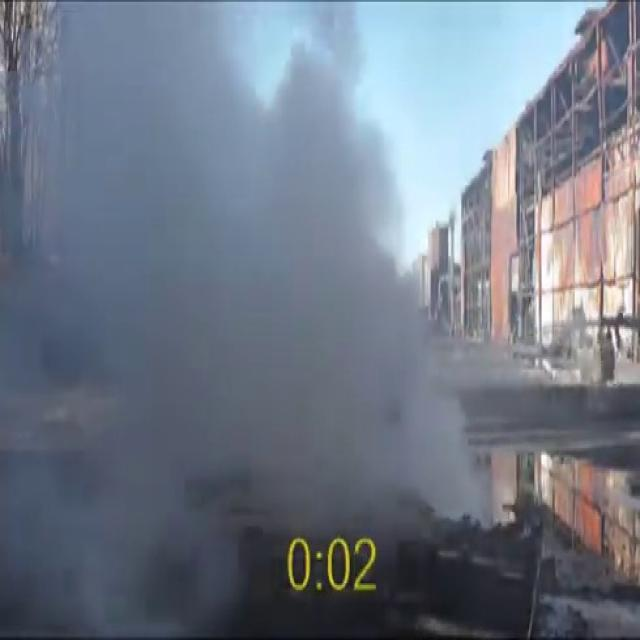Smoke: (0, 1, 482, 602)
